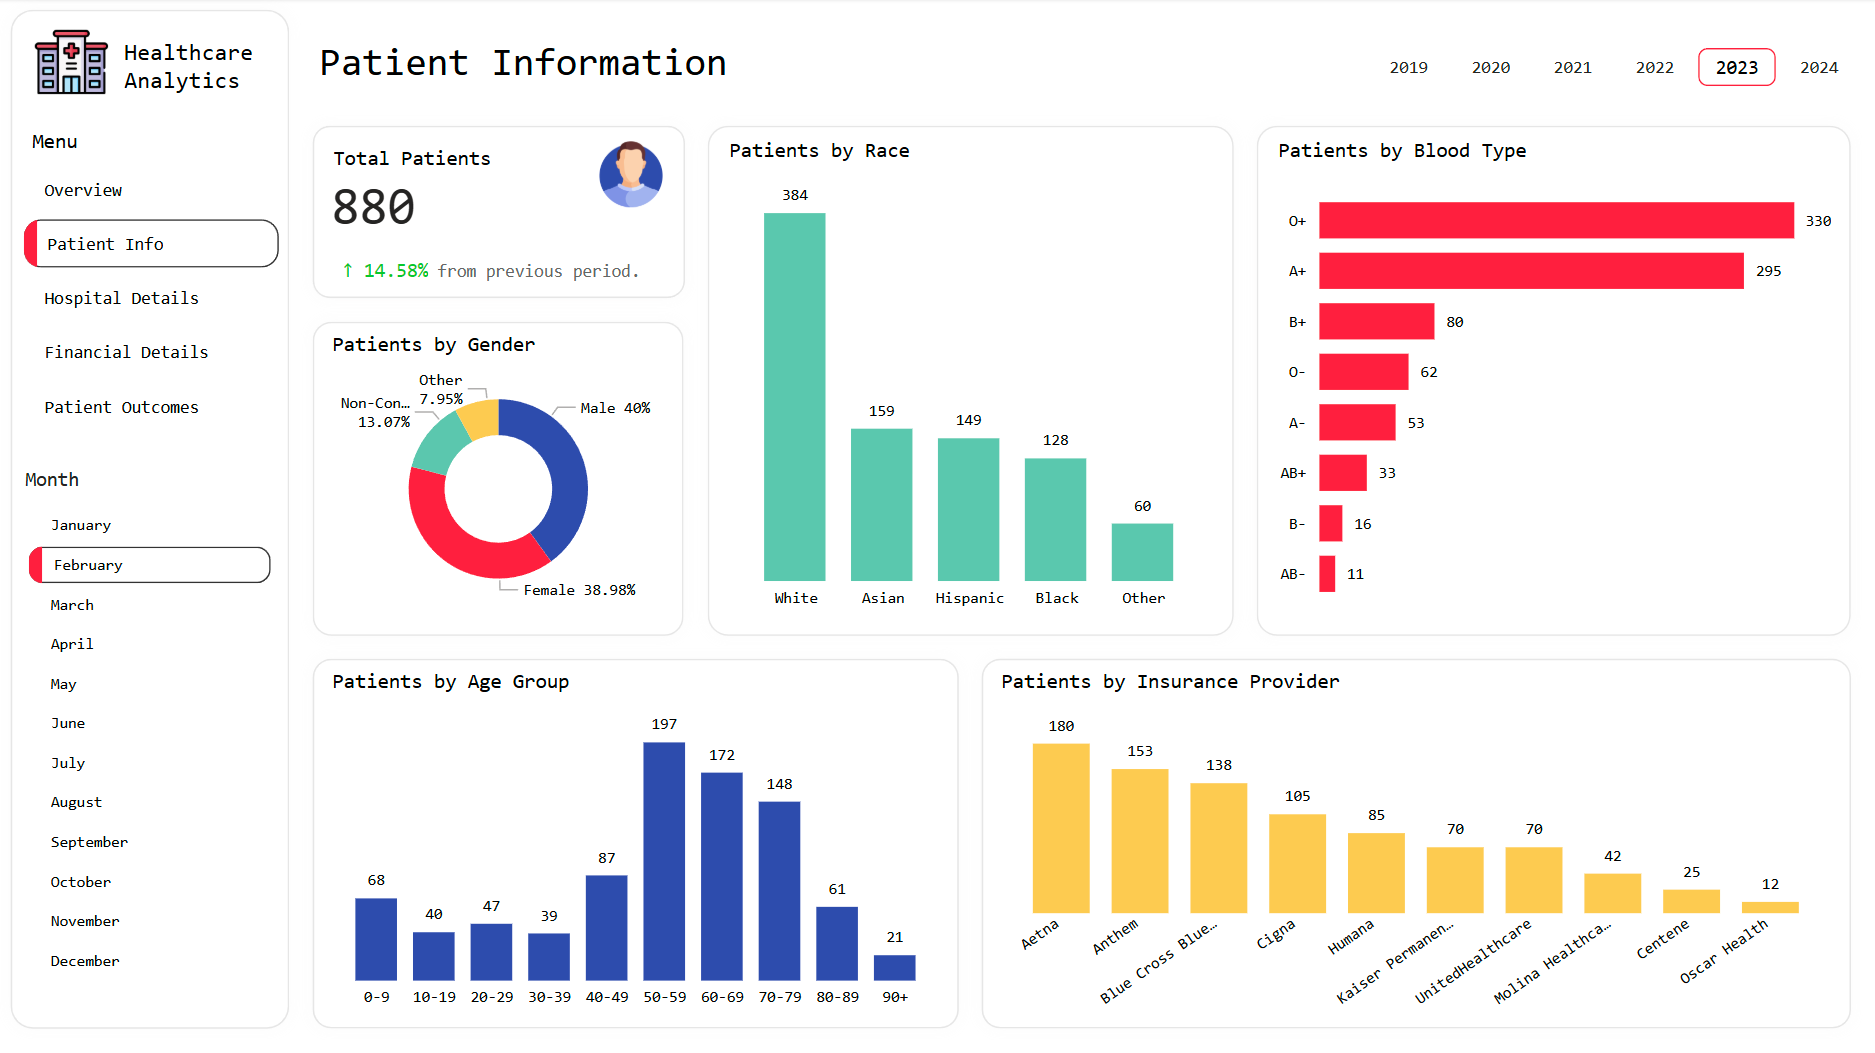

What the dashboard file says about the page in this screenshot:
{"tool":"powerbi","page":{"name":"Patient Info","canvas":[1280,720],"ordinal":1},"visuals":[{"type":"shape","box":[662.4,442.9,609.1,268.2],"z":0},{"type":"shape","box":[850.2,78.8,421.3,364.1],"z":1000},{"type":"shape","box":[206.4,442.9,456.8,268.2],"z":2000},{"type":"shape","box":[475.4,78.8,374.9,364.1],"z":3000},{"type":"shape","box":[206.4,212.6,269,230.3],"z":4000},{"type":"donutChart","fields":{"Category":["healthcare_dataset_cleaned.Gender"],"Y":["healthcare_dataset_cleaned.Gender"]},"box":[222.6,228,236.5,197.1],"z":5000},{"type":"clusteredBarChart","fields":{"Y":["healthcare_dataset_cleaned.Name"],"Category":["healthcare_dataset_cleaned.Blood Type"]},"box":[868,95.8,387.2,329.3],"z":6000},{"type":"columnChart","title":"Patients by Insurance Provider","fields":{"Category":["healthcare_dataset_cleaned.Insurance Provider"],"Y":["healthcare_dataset_cleaned.Name"]},"box":[678.6,457.6,576.6,239.6],"z":7000},{"type":"columnChart","title":"Patients by Age Group","fields":{"Y":["healthcare_dataset_cleaned.Name"],"Category":["healthcare_dataset_cleaned.AgeGroup"]},"box":[222.6,457.6,424.3,239.6],"z":8000},{"type":"columnChart","fields":{"Y":["healthcare_dataset_cleaned.Name"],"Category":["healthcare_dataset_cleaned.Race"]},"box":[493.1,95.8,338.6,329.3],"z":9000},{"type":"shape","box":[0,0,206,711.3],"z":10000},{"type":"shape","box":[205.7,79.1,270,133.6],"z":11000},{"type":"cardVisual","fields":{"Data":["healthcare_dataset_cleaned.Patient Count"]},"box":[215,102,163.6,73.8],"z":12000},{"type":"textbox","box":[223,96,153.5,30.1],"z":13000},{"type":"image","box":[396,92.7,71,55],"z":14000},{"type":"cardVisual","fields":{"Data":["healthcare_dataset_cleaned.Patients % Change with Arrows"]},"box":[226,170.9,67,30.2],"z":15000},{"type":"textbox","box":[293.9,173.4,165.3,30.6],"z":16000},{"type":"advancedSlicerVisual","fields":{"Values":["DateTable.Year"]},"box":[931.2,34.1,342.4,26.4],"z":17000},{"type":"textbox","box":[213.3,22.4,333.8,50.8],"z":18000},{"type":"advancedSlicerVisual","fields":{"Values":["DateTable.Month Name"]},"box":[16.2,347.4,173.4,324.4],"z":19000},{"type":"pageNavigator","box":[13.2,113.7,182.9,181.4],"z":20000},{"type":"textbox","box":[18,84.9,86.1,32.2],"z":21000},{"type":"textbox","box":[13.1,316.2,188.4,32.4],"z":22000},{"type":"image","box":[18.1,13.6,62.7,59.7],"z":23000},{"type":"textbox","box":[80.8,22.7,114.8,50.6],"z":24000}]}

Visuals, with their boxes on the page's 1280x720 design canvas (x1, y1, x2, y2). These are canvas units, not pixel positions in the 1875x1053 screenshot, which may show the page scaled, cropped or inside an application window:
shape: BBox(662, 443, 1272, 711)
shape: BBox(850, 79, 1272, 443)
shape: BBox(206, 443, 663, 711)
shape: BBox(475, 79, 850, 443)
shape: BBox(206, 213, 475, 443)
donutChart - healthcare_dataset_cleaned.Gender x healthcare_dataset_cleaned.Gender: BBox(223, 228, 459, 425)
clusteredBarChart - healthcare_dataset_cleaned.Name x healthcare_dataset_cleaned.Blood Type: BBox(868, 96, 1255, 425)
"Patients by Insurance Provider" columnChart: BBox(679, 458, 1255, 697)
"Patients by Age Group" columnChart: BBox(223, 458, 647, 697)
columnChart - healthcare_dataset_cleaned.Name x healthcare_dataset_cleaned.Race: BBox(493, 96, 832, 425)
shape: BBox(0, 0, 206, 711)
shape: BBox(206, 79, 476, 213)
cardVisual - healthcare_dataset_cleaned.Patient Count: BBox(215, 102, 379, 176)
textbox: BBox(223, 96, 376, 126)
image: BBox(396, 93, 467, 148)
cardVisual - healthcare_dataset_cleaned.Patients % Change with Arrows: BBox(226, 171, 293, 201)
textbox: BBox(294, 173, 459, 204)
advancedSlicerVisual - DateTable.Year: BBox(931, 34, 1274, 60)
textbox: BBox(213, 22, 547, 73)
advancedSlicerVisual - DateTable.Month Name: BBox(16, 347, 190, 672)
pageNavigator: BBox(13, 114, 196, 295)
textbox: BBox(18, 85, 104, 117)
textbox: BBox(13, 316, 202, 349)
image: BBox(18, 14, 81, 73)
textbox: BBox(81, 23, 196, 73)
